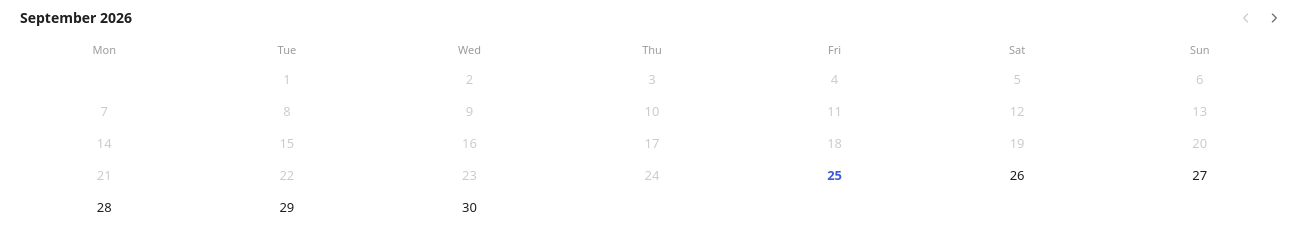
it: Calendar › moves between months and cannot go before the month of the minimum date
The image size is (1304, 229).
Expected: the button named "Previous month" is disabled, left=1232, top=4, right=1260, bottom=32
Click the button named "Next month" at (1274, 18), box left=1260, top=4, right=1288, bottom=32
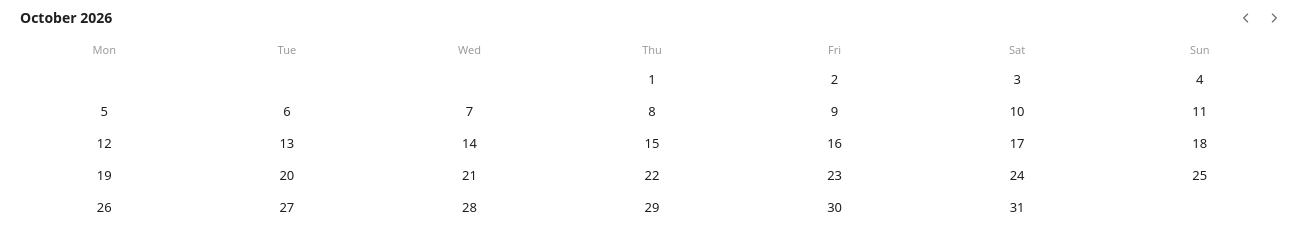
Result: the text "October 2026" is shown at left=20, top=8, right=112, bottom=28
Result: the number of cells is 31
Click the button named "Previous month" at (1246, 18), box left=1232, top=4, right=1260, bottom=32
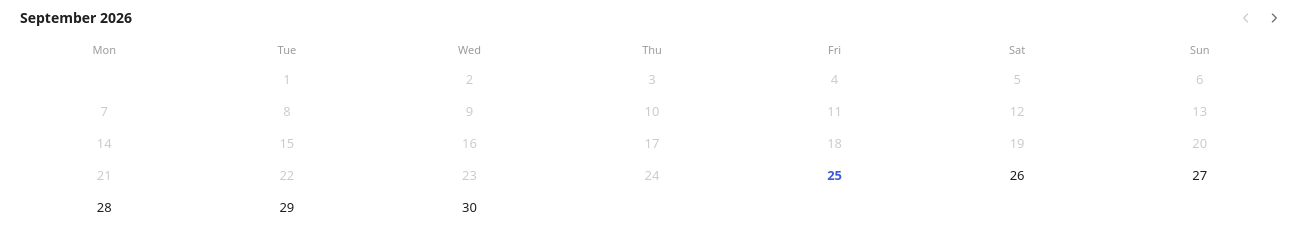
Result: the text "September 2026" is shown at left=20, top=8, right=132, bottom=28
